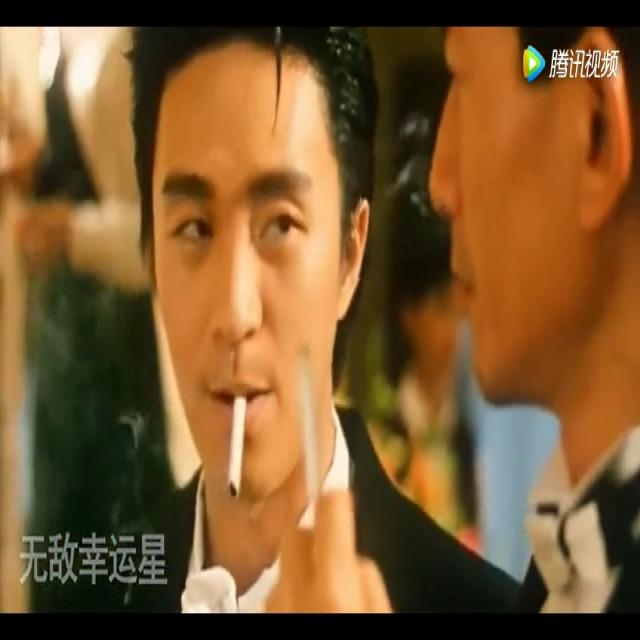smoking: (294, 353, 322, 508), (227, 393, 246, 503)
